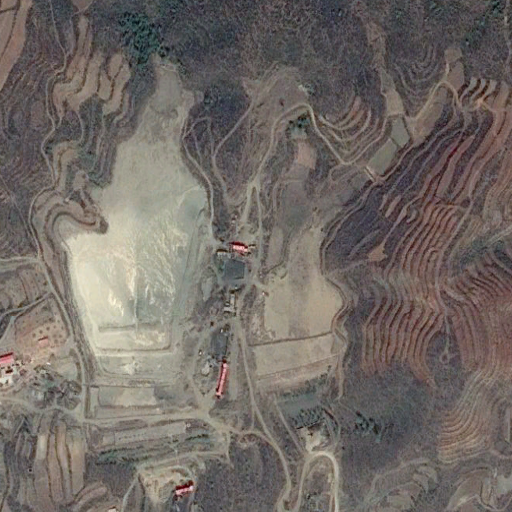tp: (58, 62, 208, 413), (241, 128, 348, 390)
